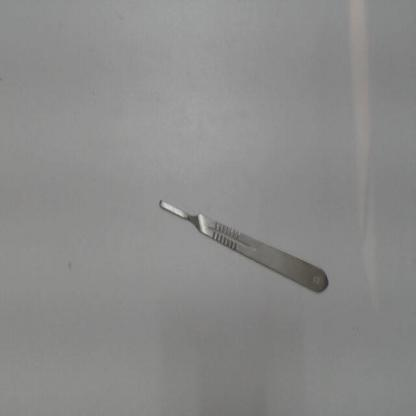No.4 BP Handle: (146, 186, 335, 304)
